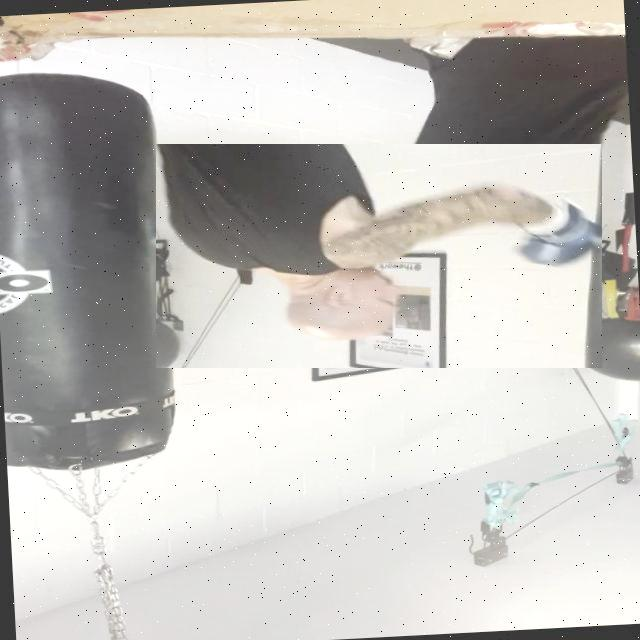punch: (156, 144, 602, 368)
